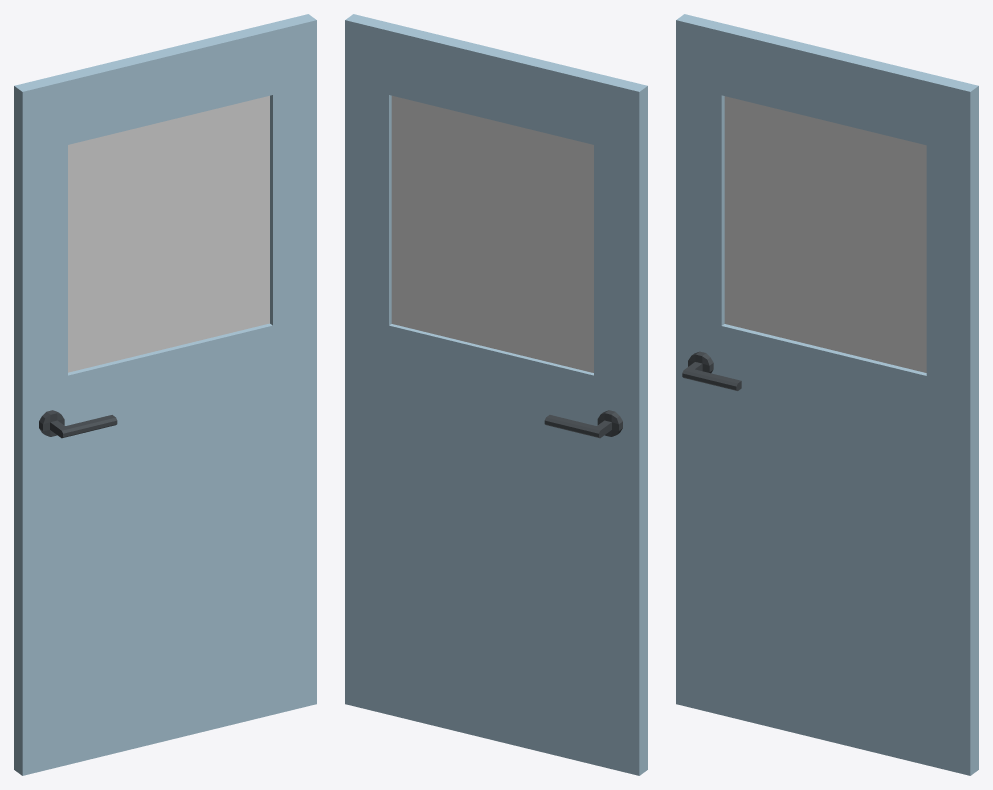
Rendered from DoorDouble.fbx.
3 renders of one model, left to right at view 1: azimuth 30°, elevation 25°; view 2: azimuth 150°, elevation 25°; view 3: azimuth 330°, elevation 25°, orthographic.
Visible parts, largest first — view 1: Cube; view 2: Cube; view 3: Cube.
Part boxes in pixels (x1=…): Cube: x1=14, y1=14, x2=316, y2=775; Cube: x1=345, y1=14, x2=647, y2=775; Cube: x1=676, y1=14, x2=978, y2=775.
Bounding box in the file's own units: 102 × 226 × 25.73.
